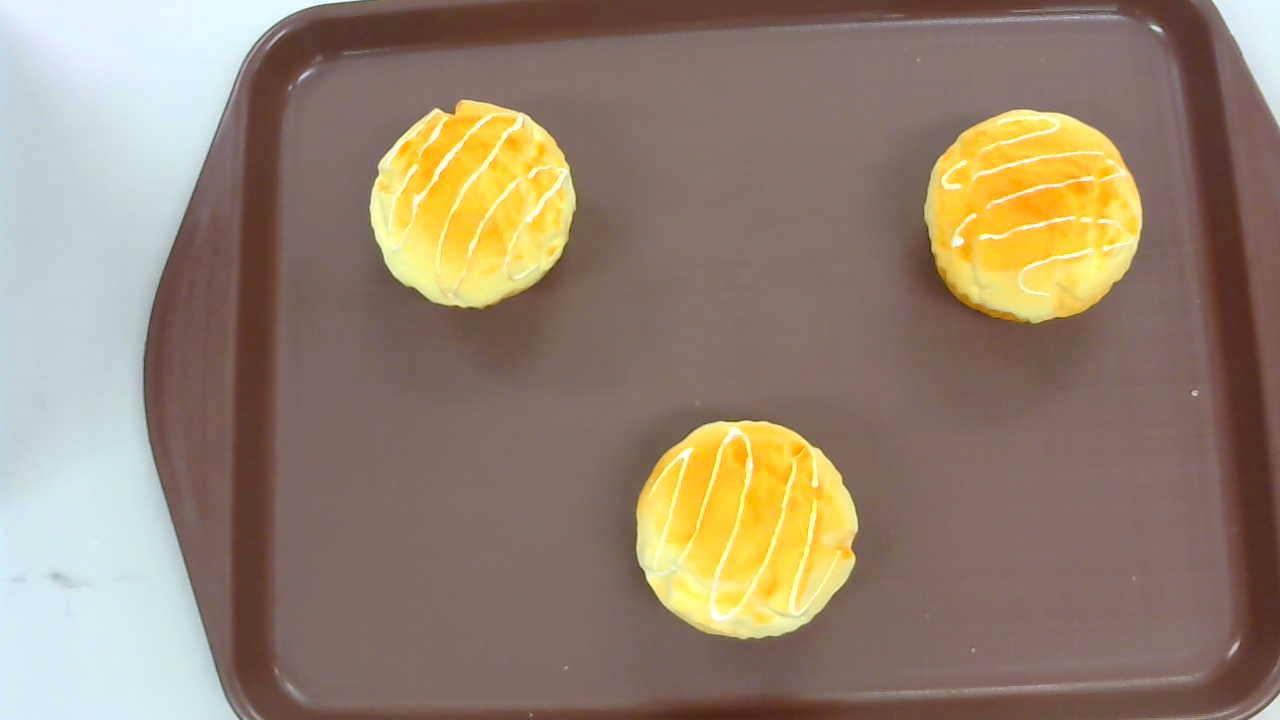cupcake: (637, 421, 858, 641), (922, 108, 1142, 325), (369, 97, 578, 310)
